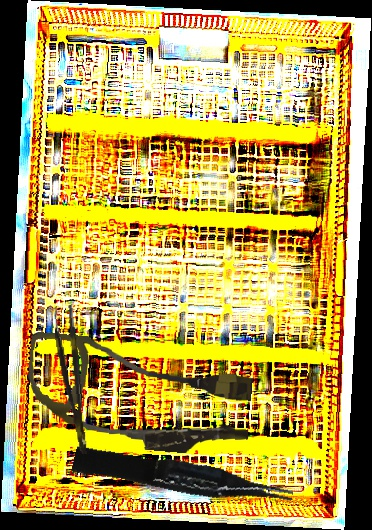Cannula: (22, 331, 256, 459)
Tissue Forceps: (71, 436, 295, 521), (52, 304, 89, 456)
